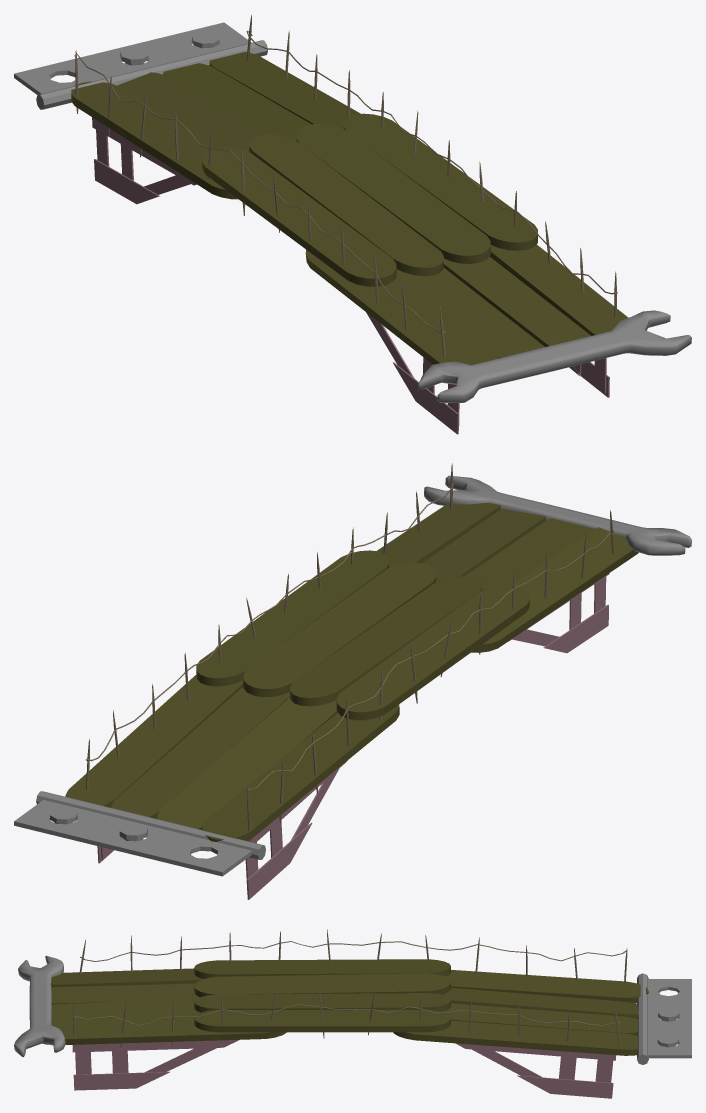
The model's file is Bridge.fbx.
The picture shows the model from 3 angles, top to bottom: view 1: azimuth 30°, elevation 25°; view 2: azimuth 150°, elevation 25°; view 3: azimuth 270°, elevation 25°; orthographic projection. The views are drawn at different scales.
Visible parts, largest first — view 1: MainBridge, BridgeHolders, Supports, Railing; view 2: MainBridge, BridgeHolders, Supports, Railing; view 3: MainBridge, Supports, BridgeHolders, Railing.
Boxes of the visible parts, bbox=[...] form: MainBridge: bbox=[71, 52, 628, 365]; BridgeHolders: bbox=[14, 22, 691, 402]; Supports: bbox=[92, 117, 609, 434]; Railing: bbox=[74, 15, 617, 356]; MainBridge: bbox=[65, 503, 638, 841]; BridgeHolders: bbox=[14, 475, 691, 876]; Supports: bbox=[97, 573, 609, 899]; Railing: bbox=[86, 463, 614, 841]; MainBridge: bbox=[42, 959, 648, 1055]; Supports: bbox=[72, 1039, 616, 1098]; BridgeHolders: bbox=[14, 955, 691, 1064]; Railing: bbox=[72, 929, 627, 1047].
Size of the model in its own units: 799 by 442 by 2451.
